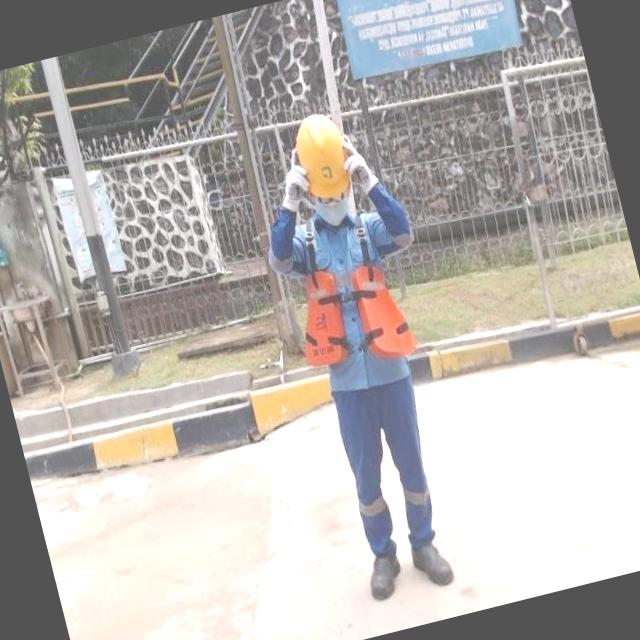vest: (284, 252, 419, 381)
